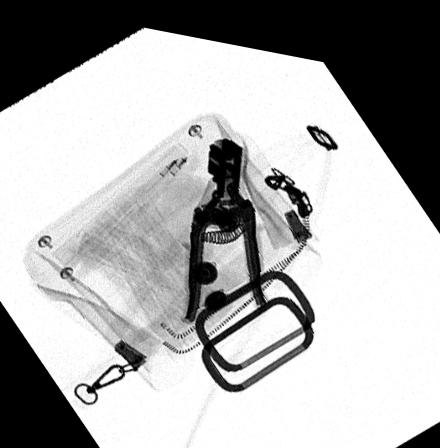Pliers: (185, 125, 268, 316)
